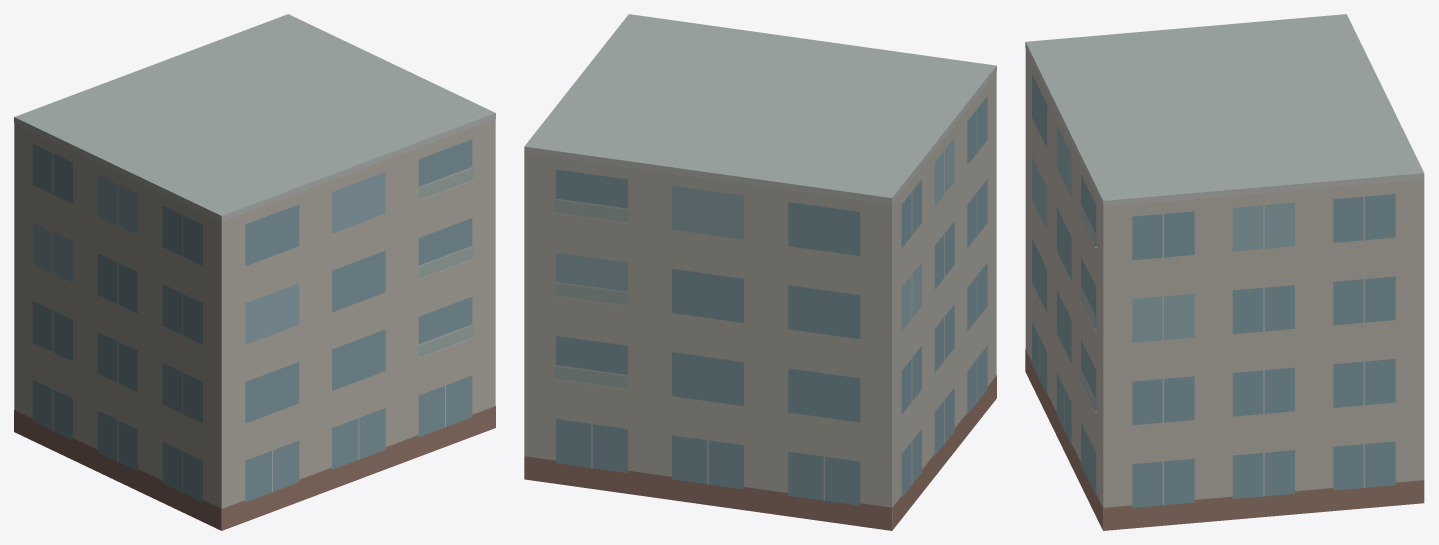
File: survey-upis-32717196.glb
3 renders of one model, left to right at view 1: azimuth 30°, elevation 25°; view 2: azimuth 150°, elevation 25°; view 3: azimuth 270°, elevation 25°, orthographic. The views are drawn at different scales.
Visible parts, largest first — view 1: survey-upis-32717196.tmp; view 2: survey-upis-32717196.tmp; view 3: survey-upis-32717196.tmp.
Boxes of the visible parts, bbox=[...] form: survey-upis-32717196.tmp: bbox=[14, 14, 495, 530]; survey-upis-32717196.tmp: bbox=[524, 14, 996, 530]; survey-upis-32717196.tmp: bbox=[1025, 14, 1424, 530].
Size of the model in its own units: 15.43 by 12.7 by 13.92.
